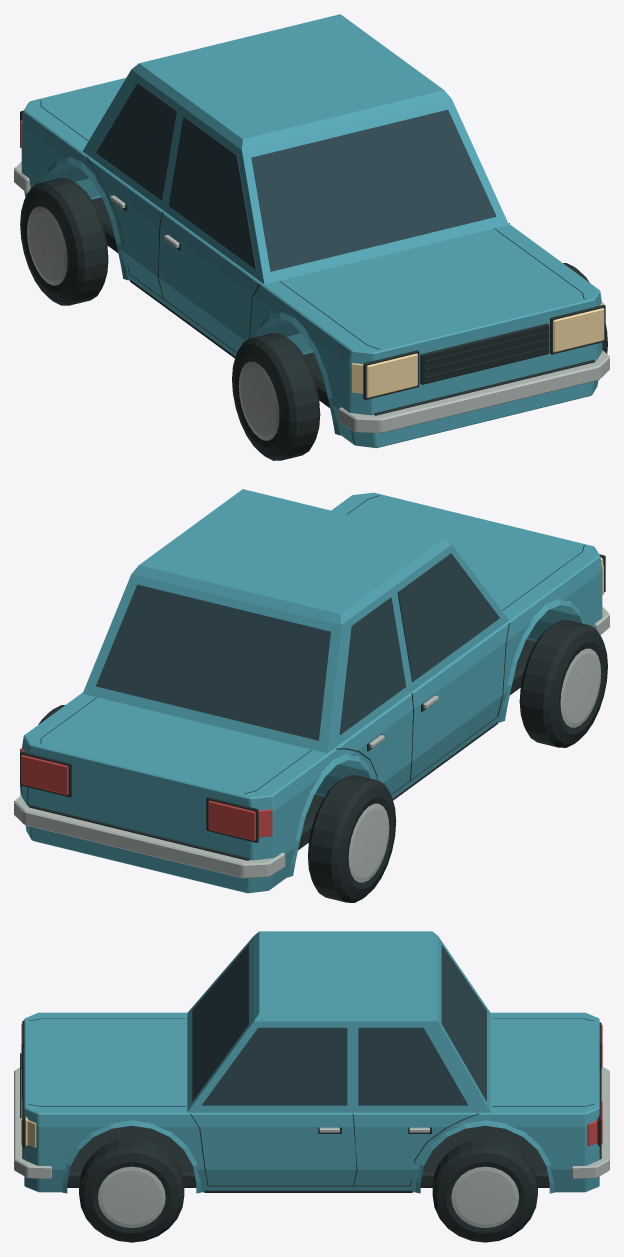
Rendered from asset.glb.
3 views of the same model, one above another, from view 1: azimuth 30°, elevation 25°; view 2: azimuth 150°, elevation 25°; view 3: azimuth 270°, elevation 25° (orthographic). The views are drawn at different scales.
Parts seen in each view (by area): view 1: Body_ThreeBox_LowerShell, Cabin_Painted_Pillars_Roof, Glass_Windshield, wheel_rl, wheel_fl, Glass_Front_L, Glass_Rear_L, Bumper_Front, Grille_Dark, Headlight_L, Headlight_R, Underbody_Recessed (+3 smaller); view 2: Body_ThreeBox_LowerShell, Cabin_Painted_Pillars_Roof, Glass_RearWindow, wheel_fl, wheel_rl, Glass_Front_L, Glass_Rear_L, Bumper_Rear, Taillight_L, Taillight_R, Underbody_Recessed, Arch_Fold_Rear_L (+2 smaller); view 3: Body_ThreeBox_LowerShell, Cabin_Painted_Pillars_Roof, Glass_Front_R, wheel_fr, wheel_rr, Glass_Rear_R, Glass_Windshield, Underbody_Recessed, Glass_RearWindow, Bumper_Rear, Bumper_Front, Arch_Fold_Rear_R (+2 smaller).
Boxes of the visible parts, bbox=[...] form: Body_ThreeBox_LowerShell: bbox=[21, 78, 602, 448]; Cabin_Painted_Pillars_Roof: bbox=[82, 14, 508, 284]; Glass_Windshield: bbox=[251, 109, 496, 271]; wheel_rl: bbox=[20, 178, 108, 305]; wheel_fl: bbox=[232, 333, 320, 460]; Glass_Front_L: bbox=[168, 116, 256, 269]; Glass_Rear_L: bbox=[96, 83, 177, 200]; Bumper_Front: bbox=[338, 350, 609, 433]; Grille_Dark: bbox=[420, 323, 549, 384]; Headlight_L: bbox=[366, 353, 417, 397]; Headlight_R: bbox=[553, 308, 604, 352]; Underbody_Recessed: bbox=[92, 197, 329, 407]; Body_ThreeBox_LowerShell: bbox=[21, 492, 602, 893]; Cabin_Painted_Pillars_Roof: bbox=[82, 489, 508, 753]; Glass_RearWindow: bbox=[96, 584, 330, 740]; wheel_fl: bbox=[519, 620, 607, 747]; wheel_rl: bbox=[308, 775, 396, 902]; Glass_Front_L: bbox=[397, 553, 499, 681]; Glass_Rear_L: bbox=[339, 597, 406, 734]; Bumper_Rear: bbox=[14, 795, 285, 878]; Taillight_L: bbox=[208, 800, 258, 840]; Taillight_R: bbox=[21, 754, 68, 795]; Underbody_Recessed: bbox=[298, 639, 535, 850]; Arch_Fold_Rear_L: bbox=[287, 754, 372, 877]; Body_ThreeBox_LowerShell: bbox=[24, 1012, 599, 1192]; Cabin_Painted_Pillars_Roof: bbox=[187, 931, 490, 1112]; Glass_Front_R: bbox=[201, 1027, 347, 1105]; wheel_fr: bbox=[79, 1138, 184, 1242]; wheel_rr: bbox=[432, 1138, 537, 1242]; Glass_Rear_R: bbox=[358, 1027, 468, 1105]; Glass_Windshield: bbox=[192, 944, 249, 1101]; Underbody_Recessed: bbox=[67, 1125, 549, 1187]; Glass_RearWindow: bbox=[441, 945, 486, 1101]; Bumper_Rear: bbox=[572, 1067, 609, 1178]; Bumper_Front: bbox=[14, 1067, 51, 1178]; Arch_Fold_Rear_R: bbox=[415, 1120, 554, 1193].
Bounding box in the file's own units: 2.25 × 1.65 × 4.3.
